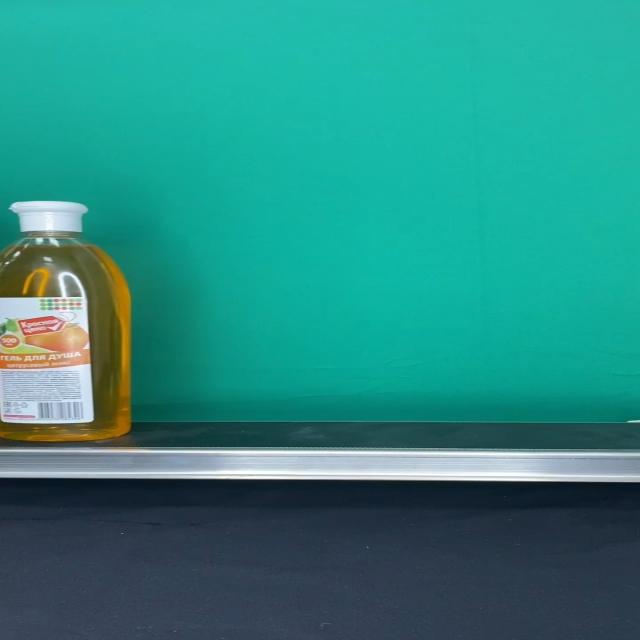Bottle: (0, 201, 132, 442)
Cap: (10, 201, 89, 232)
